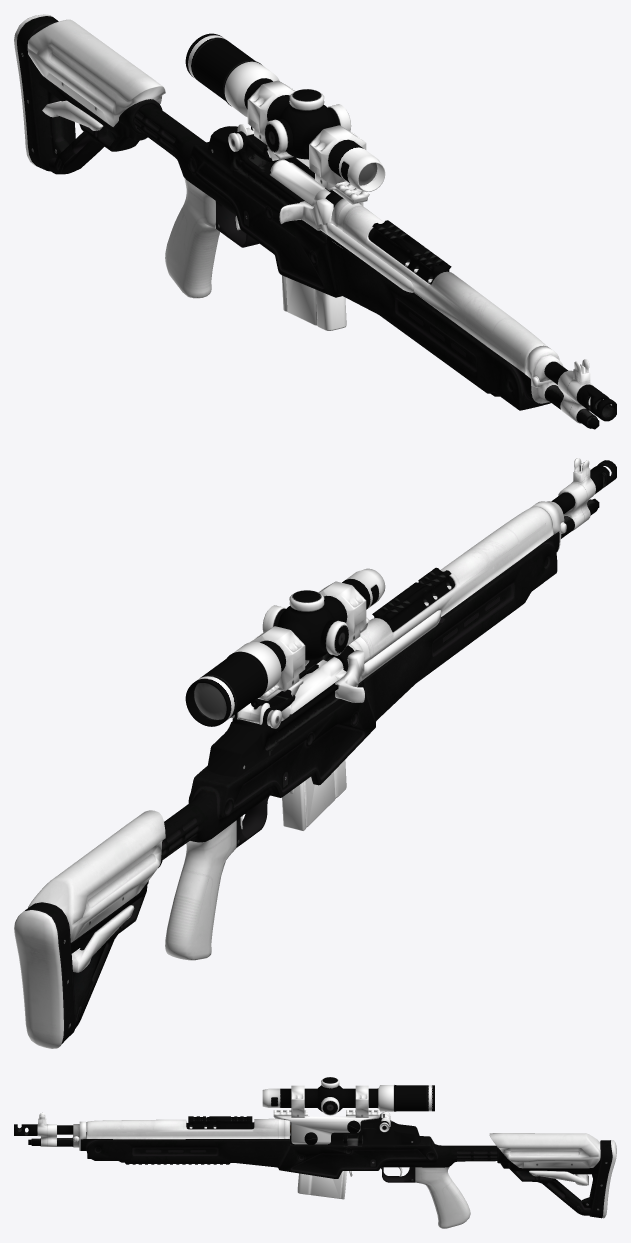
The model's file is Weapons_Socom_LOD0.glb.
3 views of the same model, one above another, from view 1: azimuth 30°, elevation 25°; view 2: azimuth 150°, elevation 25°; view 3: azimuth 270°, elevation 25° (orthographic). The views are drawn at different scales.
Parts seen in each view (by area): view 1: Hoodie; view 2: Hoodie; view 3: Hoodie.
Part boxes in pixels (x1,y1,x2,y2): Hoodie: (14,14,616,429); Hoodie: (14,458,616,1048); Hoodie: (14,1077,616,1228).
Size of the model in its own units: 0.0798 by 0.2667 by 0.9965.
1 material, 1 textured.
